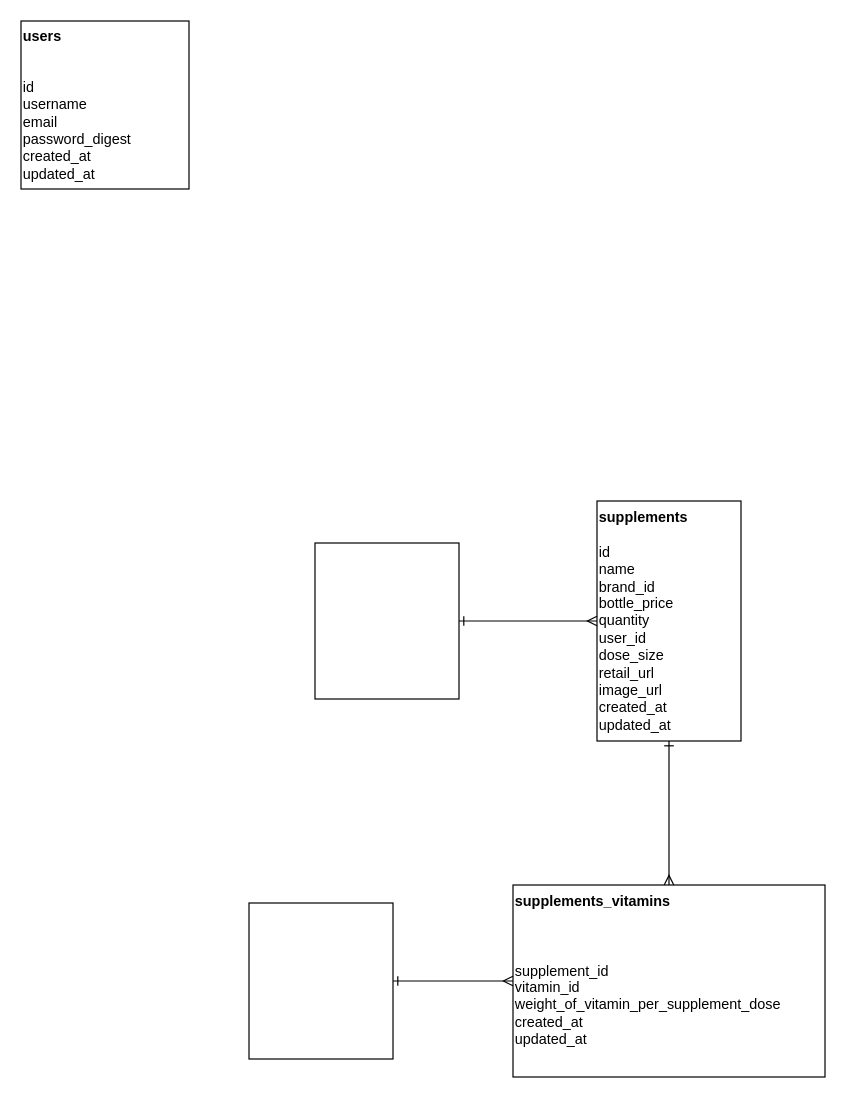
The diagram is 846 pixels wide and 1098 high, and some of its shapes have lost their labels. Here are the shapes that lost their labels. From the top down, the centre of each, then its label:
At (386,620): "brands id name logo_url about_page_url created_at updated_at".
At (320,980): "vitamins id name created_at updated_at".
